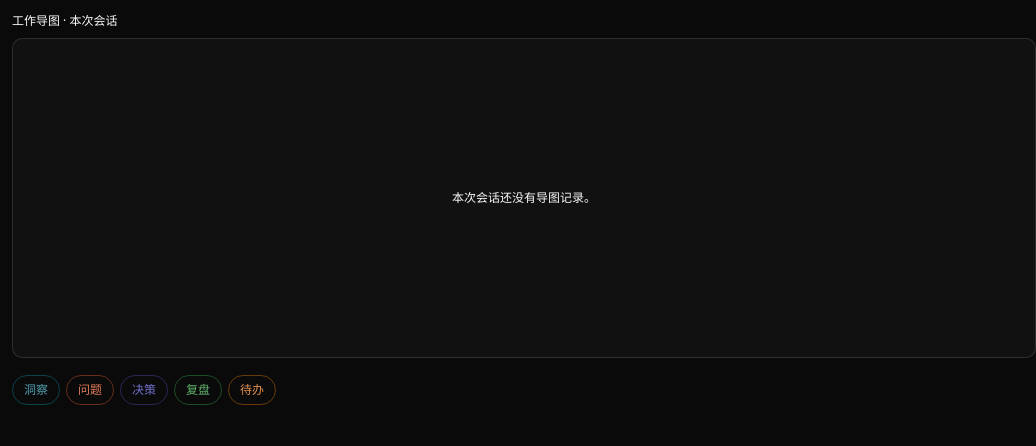
TimerMapEditor（中央编辑区） › 提交失败 → 卡内错误文案（不抛、浮层保留以便重试）
Step 1. Click the button with test id "map-quick-insight" → (36, 390), box [12,375,60,405]
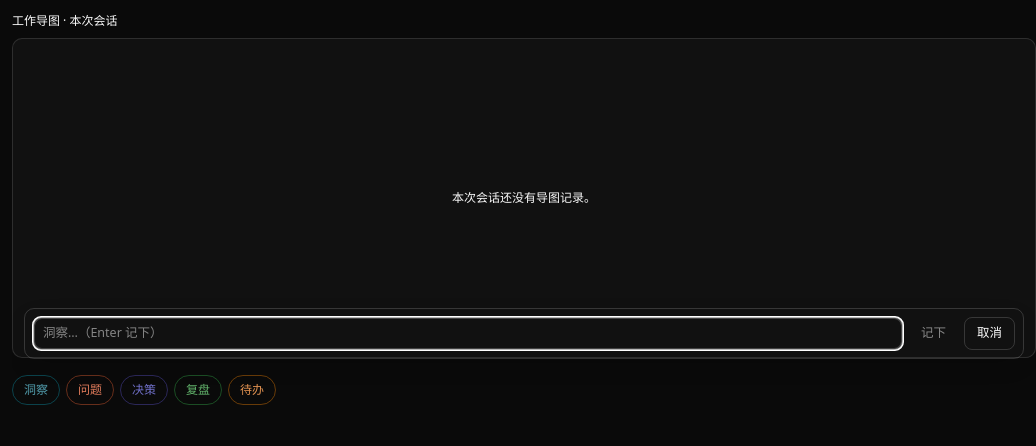
Step 2. Type "x" into the field with test id "map-quick-input" → (468, 334), box [33,317,903,350]
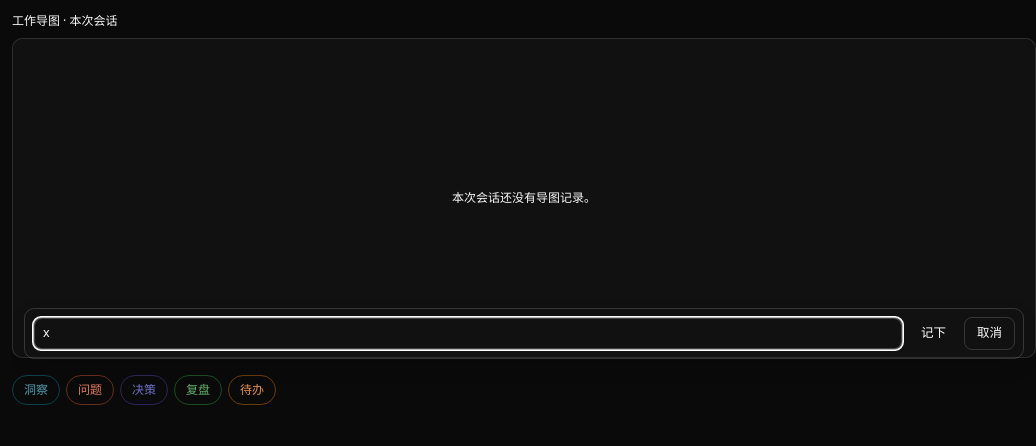
Step 3. Click the button with test id "map-quick-submit" → (934, 334), box [909,317,958,350]
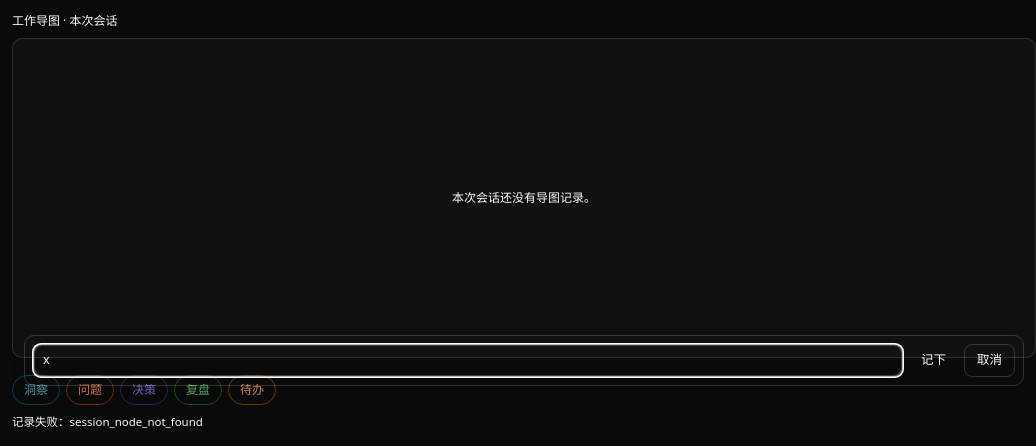
Expected: the form with test id "map-quick-pop" is shown, [24,335,1024,386]
Expected: the message with test id "map-quick-error" shows "session_node_not_found", [70,414,203,429]
